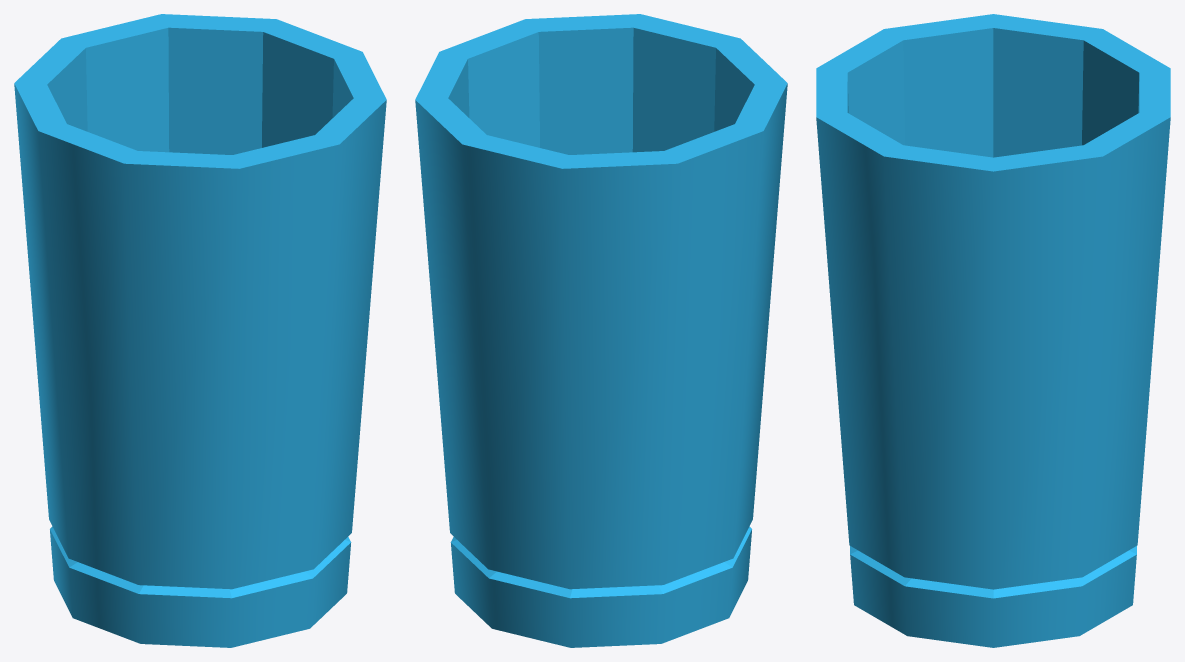
The model's file is SM_glass_06.fbx.
The picture shows the model from 3 angles, left to right: view 1: azimuth 30°, elevation 25°; view 2: azimuth 150°, elevation 25°; view 3: azimuth 270°, elevation 25°; orthographic projection.
Visible parts, largest first — view 1: glass_06; view 2: glass_06; view 3: glass_06.
Boxes of the visible parts, left/top/right/bottom form: glass_06: left=14, top=14, right=386, bottom=647; glass_06: left=415, top=14, right=787, bottom=647; glass_06: left=816, top=14, right=1170, bottom=647.
Bounding box in the file's own units: 13.48 × 19.81 × 12.82.
